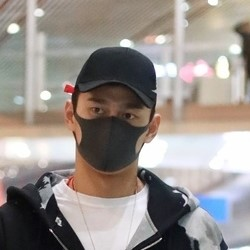mask: (68, 90, 150, 176)
